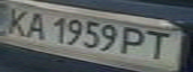1: (42, 12, 69, 44)
5: (81, 17, 103, 51)
9: (100, 20, 124, 53), (63, 16, 84, 47)
A: (18, 10, 51, 40)
K: (0, 6, 36, 37)
P: (118, 25, 154, 57)
T: (139, 28, 184, 61)
